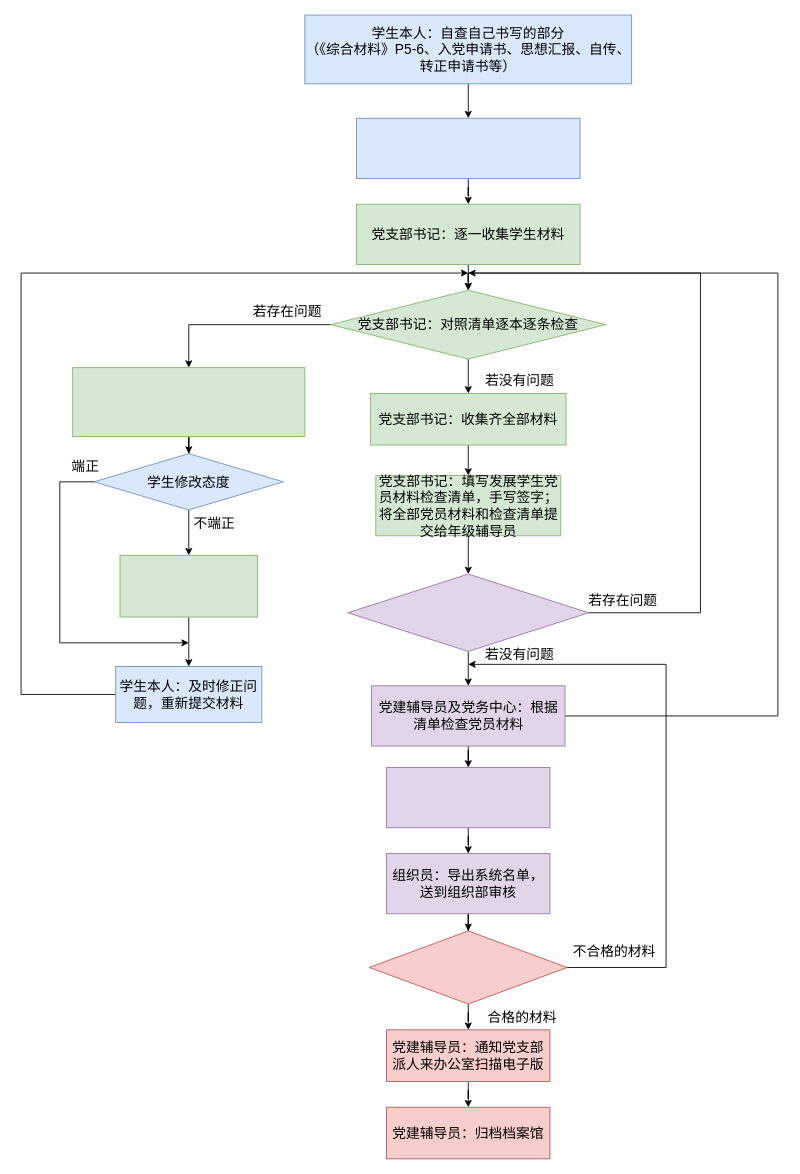
Some shapes in this 800 by 1174 pixel diagram are drawn without their labels. Each missing label, with the box of its shape:
党建辅导员：送组织员审核盖章: (386, 767, 550, 828)
党支部书记：具体问题第一时间反馈给学生本人，返还材料修改， 进行批评教育，并第一时间反馈给辅导员: (72, 367, 305, 436)
党支部书记：进行批评教育，并第一时间反馈给辅导员: (119, 554, 258, 617)
学生本人：根据通知及时主动的提交给党支部书记: (356, 117, 580, 178)
年级辅导员及年级党建助理： 根据检查清单检查党员材料: (347, 573, 589, 651)
组织部：反馈检查结果: (369, 930, 567, 1004)
